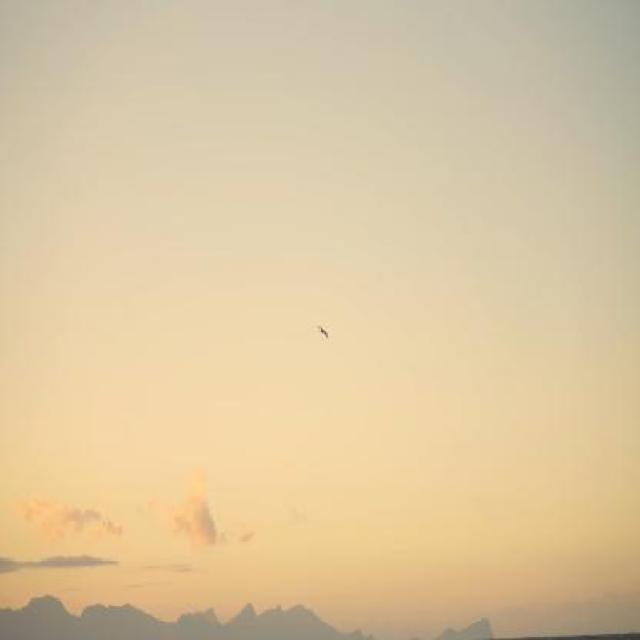bird: (314, 319, 332, 344)
